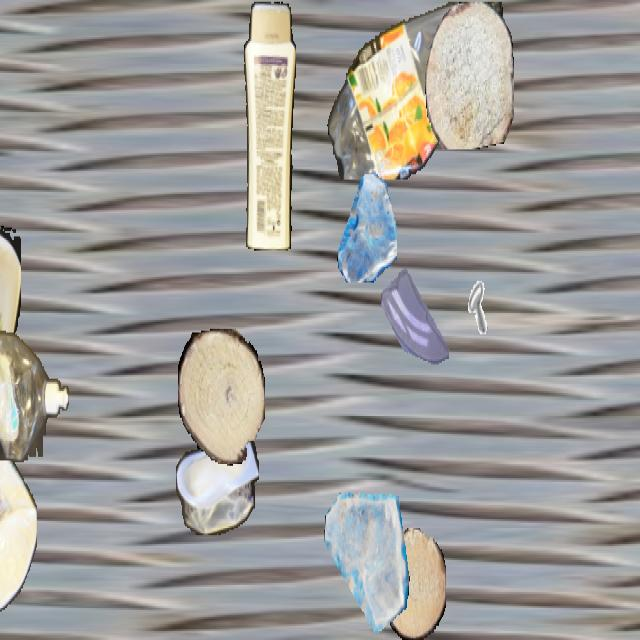glass: (323, 486, 409, 638), (381, 256, 449, 377), (336, 174, 396, 281)
metal: (443, 272, 489, 354)
plastic: (326, 2, 508, 180), (241, 2, 295, 250), (0, 324, 68, 462), (0, 356, 36, 615), (176, 427, 258, 533), (0, 222, 21, 404)
wood: (425, 2, 513, 148), (178, 329, 264, 464), (384, 528, 446, 638)
